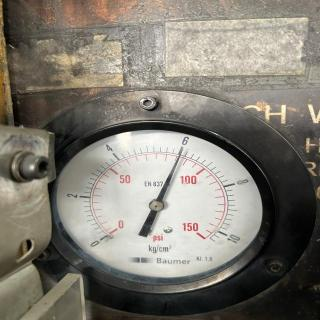gauge: (29, 115, 302, 318), (88, 228, 114, 250), (191, 226, 217, 247), (148, 198, 165, 212), (178, 144, 186, 154)
